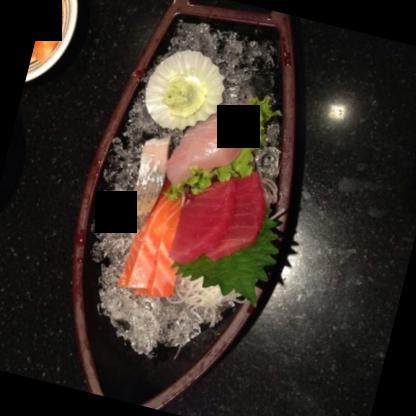salmon: (122, 192, 197, 304)
tuna: (165, 168, 236, 271), (207, 166, 267, 257)
